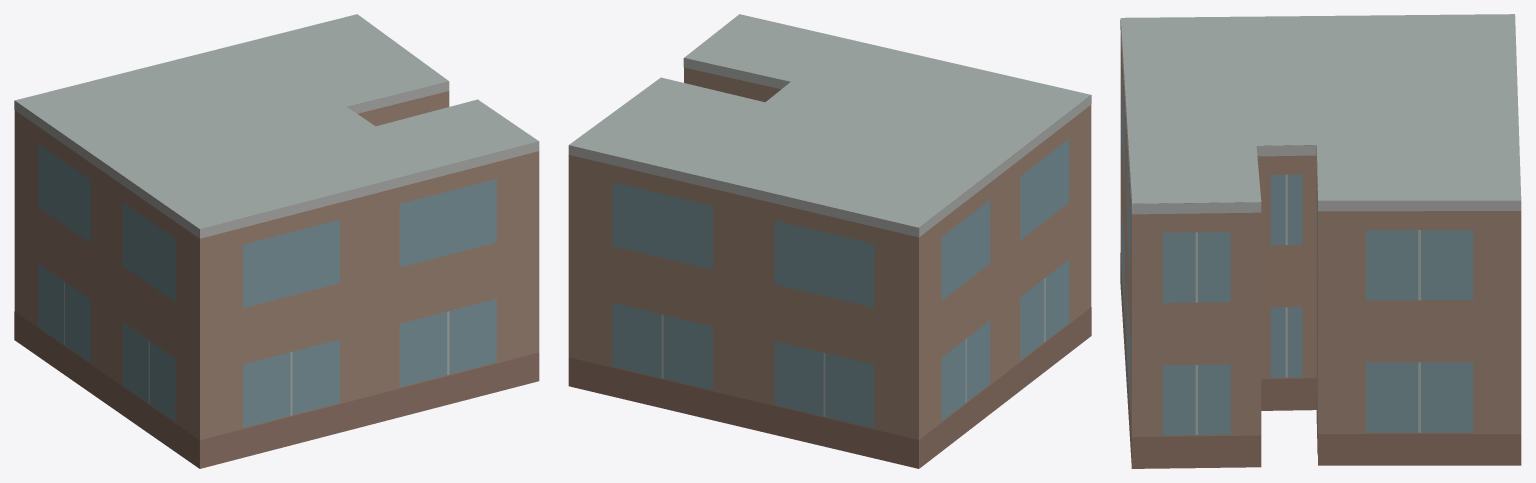
Rendered from survey-upis-32831584.glb.
The picture shows the model from 3 angles, left to right: view 1: azimuth 30°, elevation 25°; view 2: azimuth 150°, elevation 25°; view 3: azimuth 270°, elevation 25°; orthographic projection. The views are drawn at different scales.
Parts seen in each view (by area): view 1: survey-upis-32831584.tmp; view 2: survey-upis-32831584.tmp; view 3: survey-upis-32831584.tmp.
Boxes of the visible parts, x1,y1,x2,y2 form: survey-upis-32831584.tmp: [14, 14, 539, 468]; survey-upis-32831584.tmp: [568, 14, 1091, 468]; survey-upis-32831584.tmp: [1120, 14, 1521, 468].
Bounding box in the file's own units: 9.38 × 6.1 × 8.37.
